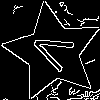V: (27, 27, 84, 78)
